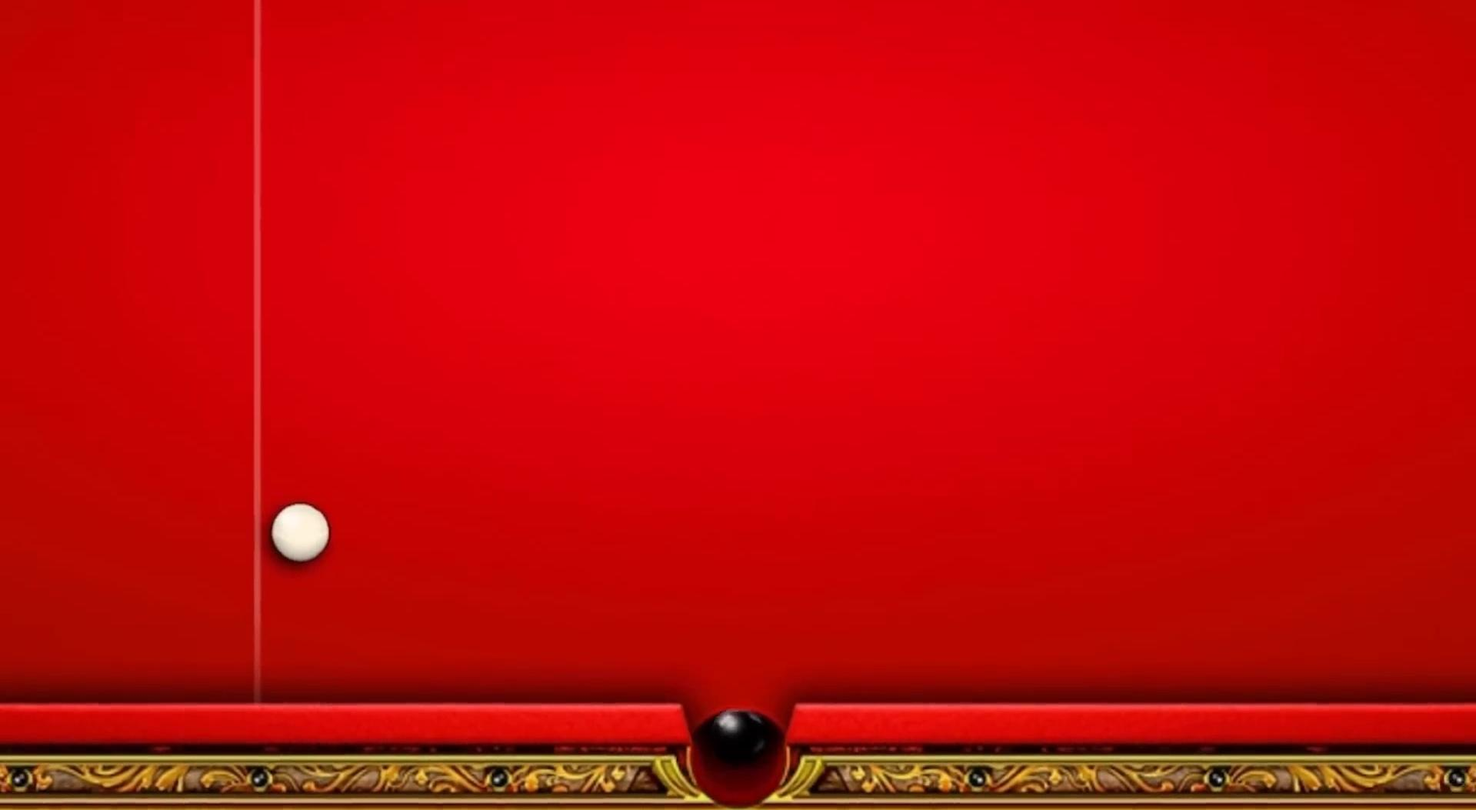Hole: (670, 682, 805, 809)
White: (264, 500, 332, 572)
